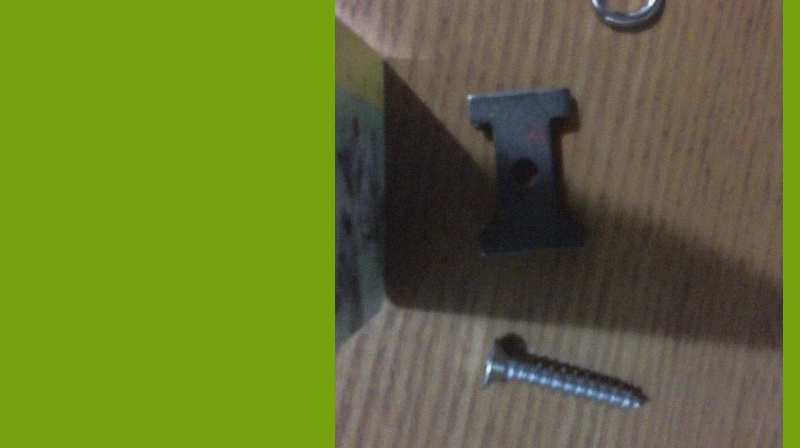O001: (535, 0, 663, 34)
O002: (462, 84, 588, 257)
S001: (471, 328, 654, 414)
